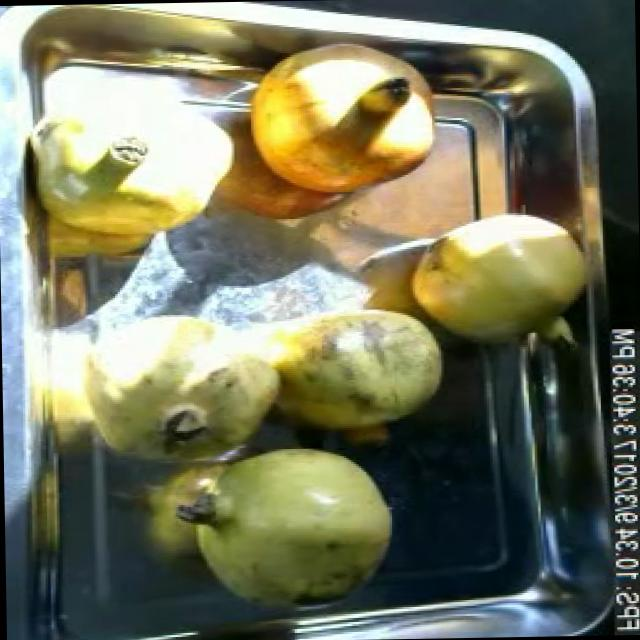fruit: (60, 291, 302, 478), (171, 434, 404, 618), (18, 93, 237, 270), (233, 34, 444, 205), (255, 296, 456, 439), (400, 204, 596, 350)
